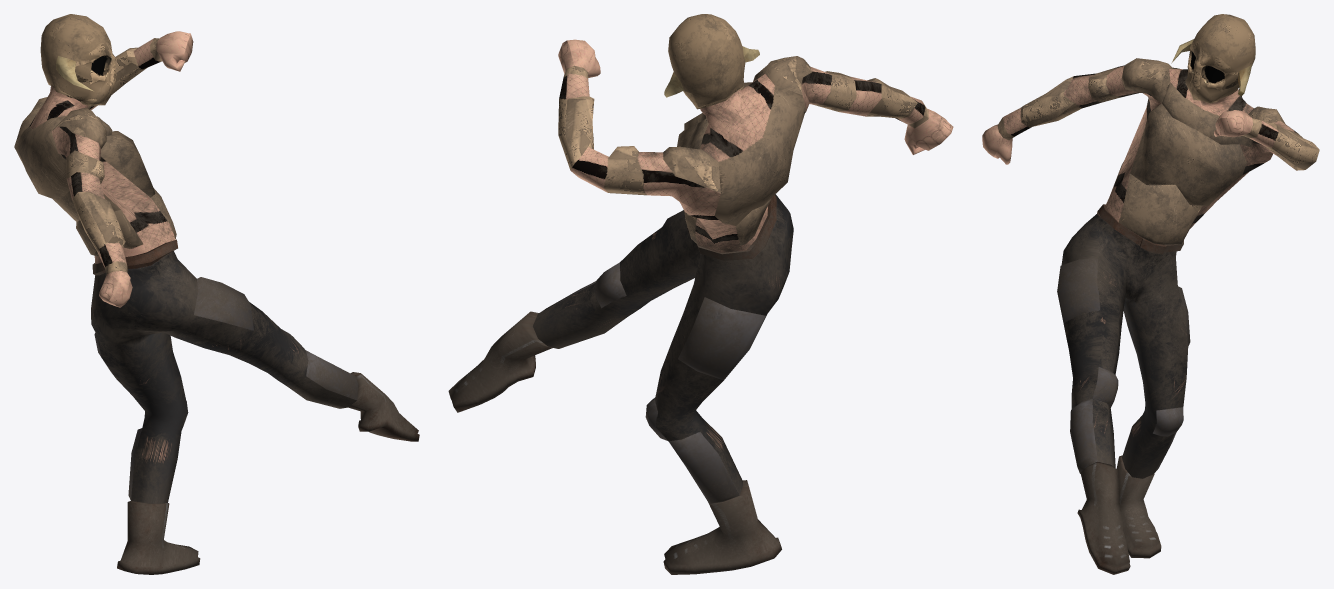
Rendered from Anim_ataque_f1_npc1.0023.obj.
3 renders of one model, left to right at view 1: azimuth 30°, elevation 25°; view 2: azimuth 150°, elevation 25°; view 3: azimuth 270°, elevation 25°, orthographic. The views are drawn at different scales.
Parts seen in each view (by area): view 1: NPC2; view 2: NPC2; view 3: NPC2.
Boxes of the visible parts, x1,y1,x2,y2 form: NPC2: (14,14,419,574); NPC2: (448,14,953,574); NPC2: (982,14,1319,574).
Bounding box in the file's own units: 6.68 × 8.99 × 5.43.
